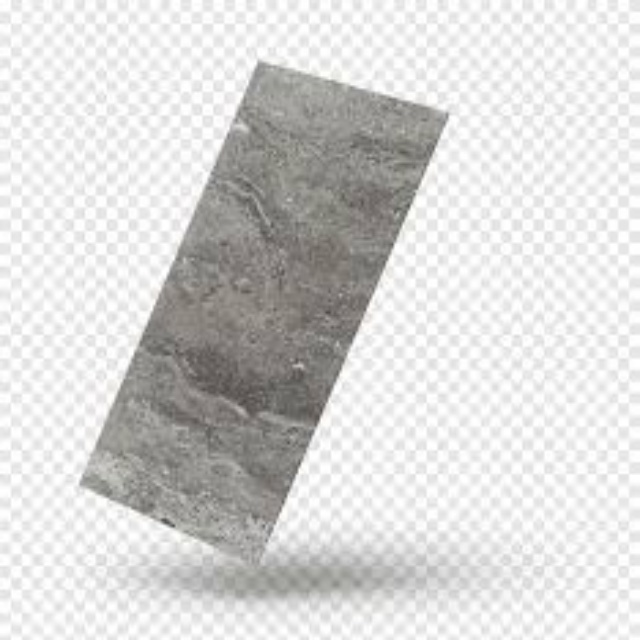obstacle: (82, 62, 443, 560)
